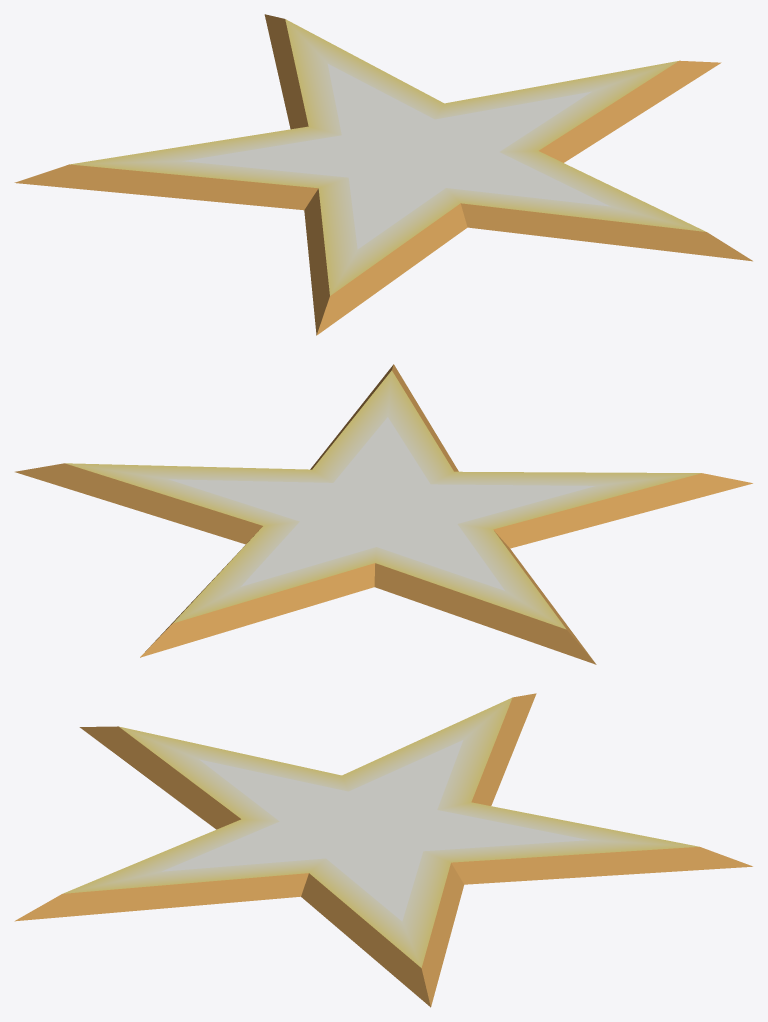
File: FrankyStarFront.fbx
The picture shows the model from 3 angles, top to bottom: view 1: azimuth 30°, elevation 25°; view 2: azimuth 150°, elevation 25°; view 3: azimuth 270°, elevation 25°; orthographic projection. The views are drawn at different scales.
Visible parts, largest first — view 1: FrankyStarFront; view 2: FrankyStarFront; view 3: FrankyStarFront.
Part boxes in pixels (x1,y1,x2,y2): FrankyStarFront: (14, 14, 752, 335); FrankyStarFront: (15, 364, 752, 664); FrankyStarFront: (14, 693, 752, 1007).
Bounding box in the file's own units: 58.13 × 1.44 × 57.84.
